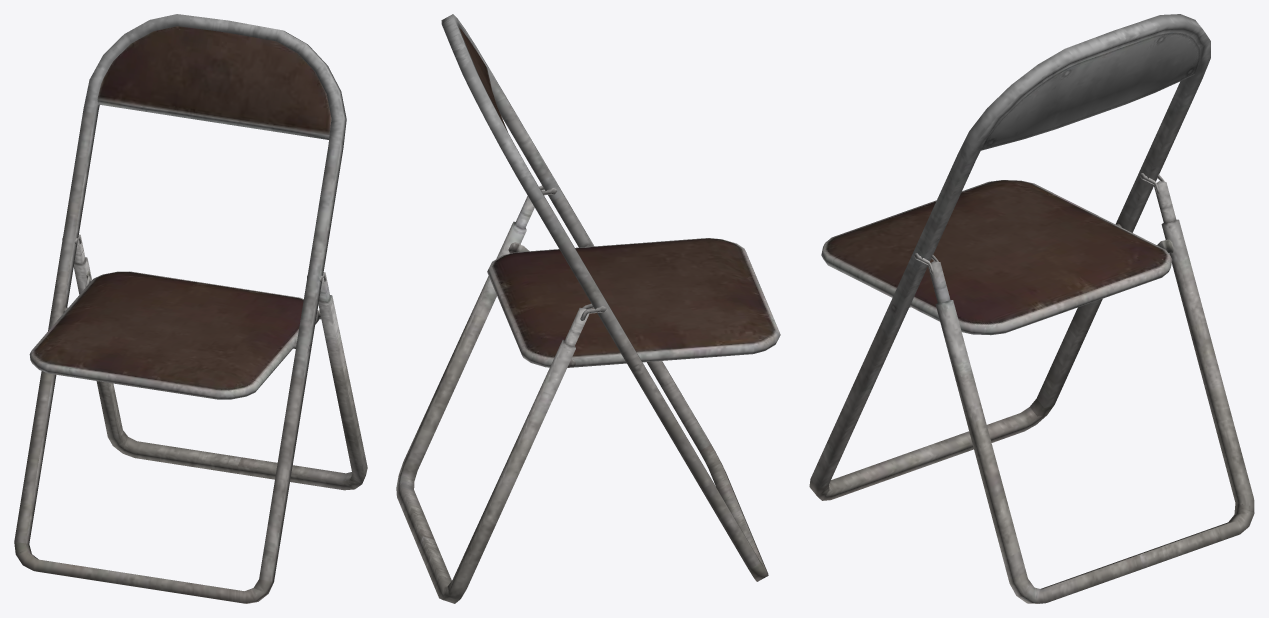
The model's file is chair.glb.
The picture shows the model from 3 angles, left to right: view 1: azimuth 30°, elevation 25°; view 2: azimuth 150°, elevation 25°; view 3: azimuth 270°, elevation 25°; orthographic projection. The views are drawn at different scales.
Visible parts, largest first — view 1: zp_chair; view 2: zp_chair; view 3: zp_chair.
Boxes of the visible parts, <box> form: zp_chair: <box>14,14,367,603</box>; zp_chair: <box>396,14,780,603</box>; zp_chair: <box>809,14,1254,603</box>.
Size of the model in its own units: 0.7875 by 1.02 by 0.7801.
1 material, 1 textured.
